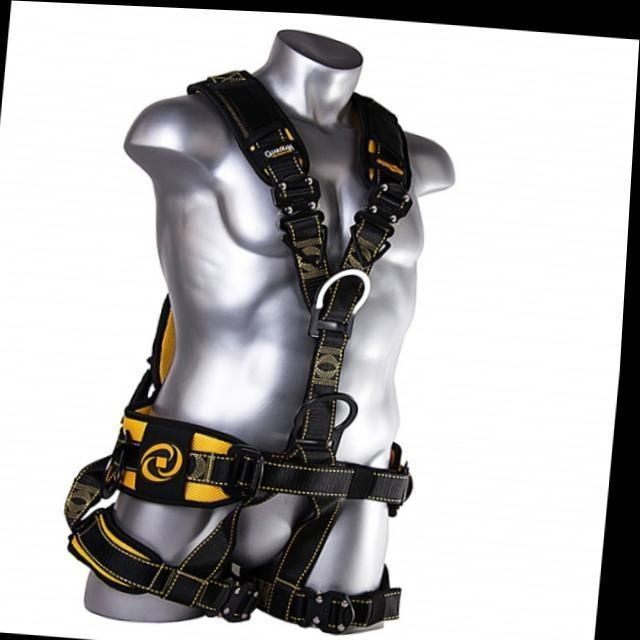Arnes_seguridad: (82, 72, 416, 627)
